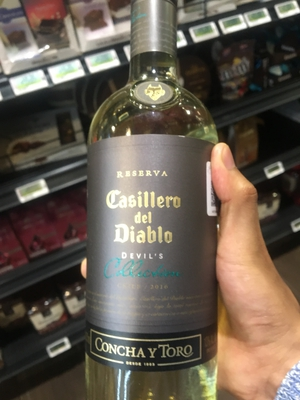casillero del diablo devils collection verde: (82, 12, 241, 395)
